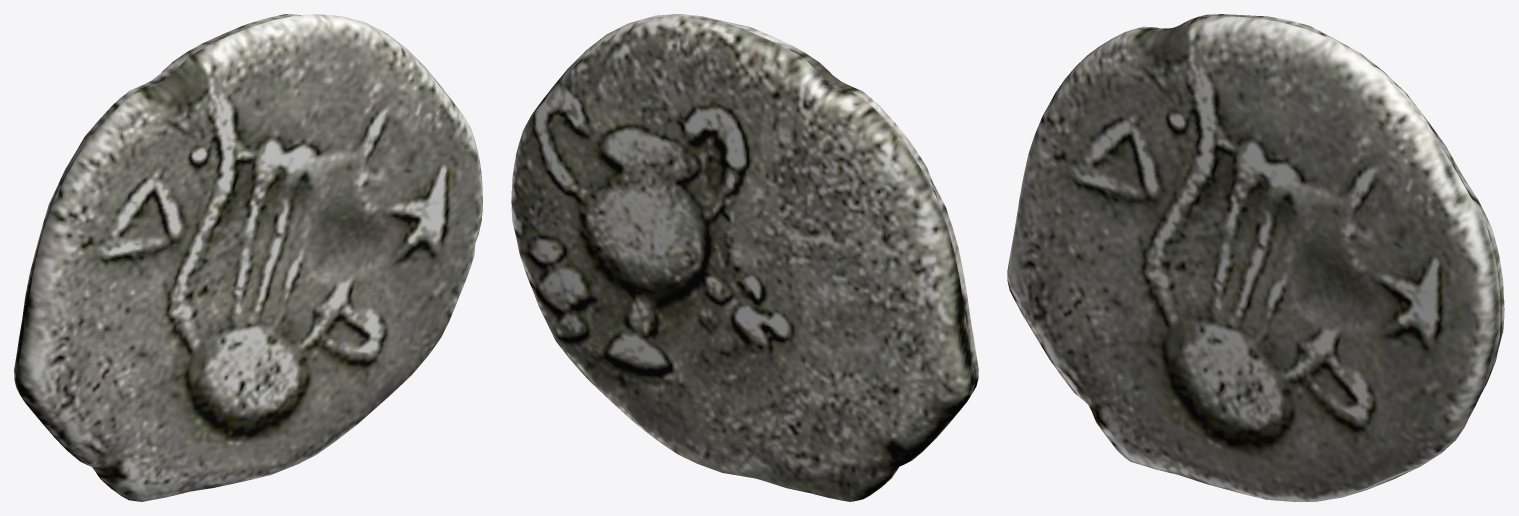
Rendered from simpleObol.fbx.
3 views of the same model, side by side, from view 1: azimuth 30°, elevation 25°; view 2: azimuth 150°, elevation 25°; view 3: azimuth 330°, elevation 25° (orthographic). The views are drawn at different scales.
Parts seen in each view (by area): view 1: Cylinder; view 2: Cylinder; view 3: Cylinder.
Boxes of the visible parts, x1=… form: Cylinder: x1=14, y1=14, x2=482, y2=501; Cylinder: x1=511, y1=14, x2=978, y2=501; Cylinder: x1=1007, y1=14, x2=1504, y2=501.
Bounding box in the file's own units: 241 × 225 × 23.76.
